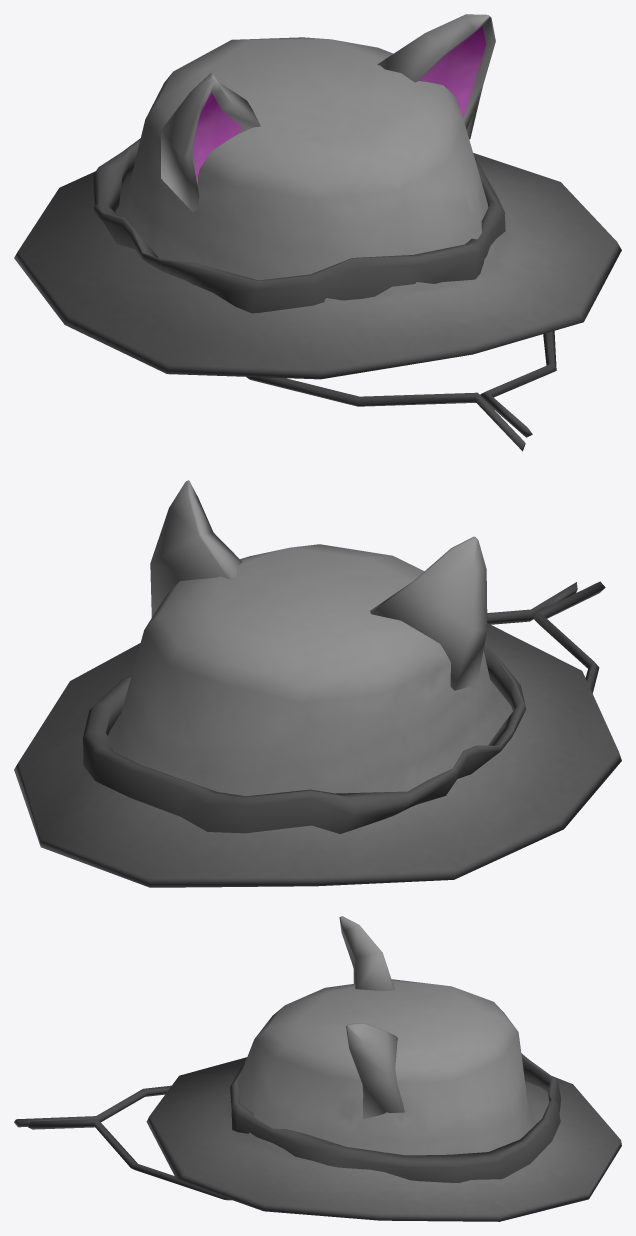
The model's file is BoonieHatCat_Ground.fbx.
3 views of the same model, one above another, from view 1: azimuth 30°, elevation 25°; view 2: azimuth 150°, elevation 25°; view 3: azimuth 270°, elevation 25° (orthographic). The views are drawn at different scales.
Visible parts, largest first — view 1: BonnieHatCat; view 2: BonnieHatCat; view 3: BonnieHatCat.
Boxes of the visible parts, x1,y1,x2,y2 form: BonnieHatCat: (14,14,621,451); BonnieHatCat: (14,480,621,887); BonnieHatCat: (14,916,621,1221).
Size of the model in its own units: 50.69 by 24.89 by 71.97.
